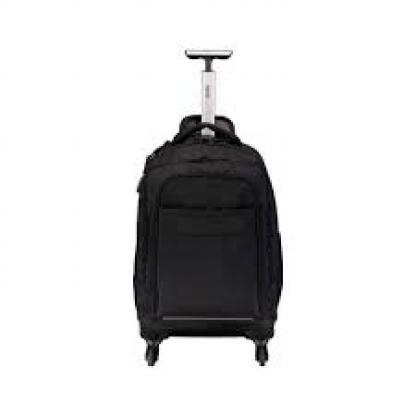morral: (118, 33, 311, 377)
